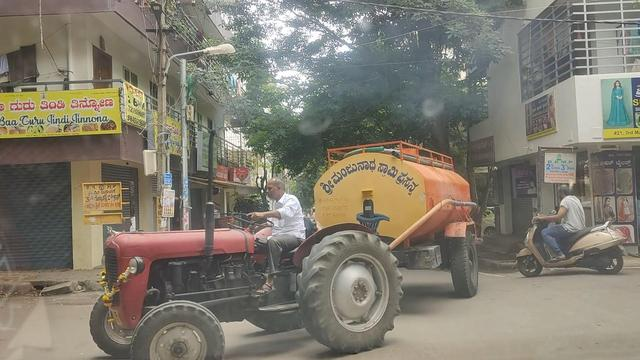HMV: (73, 110, 504, 360)
LMV: (513, 174, 638, 285)
